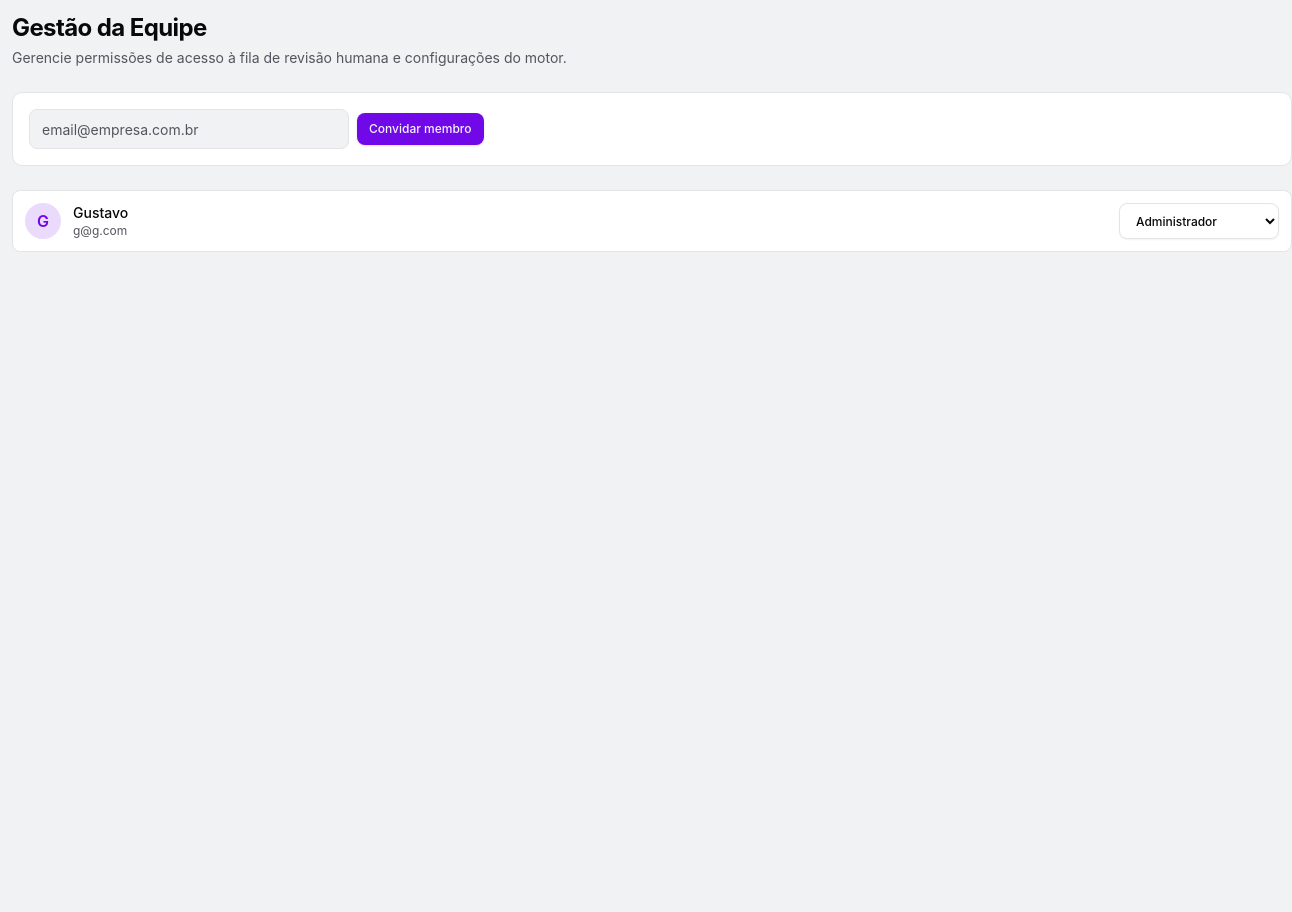
Test: TeamSettingsPage & MemberRow › shows floating save bar when form is dirty
The width and height of the screenshot is (1292, 912).
Select "Revisor" in the dropdown named "role" at (1199, 221), box [1119,203,1279,239]
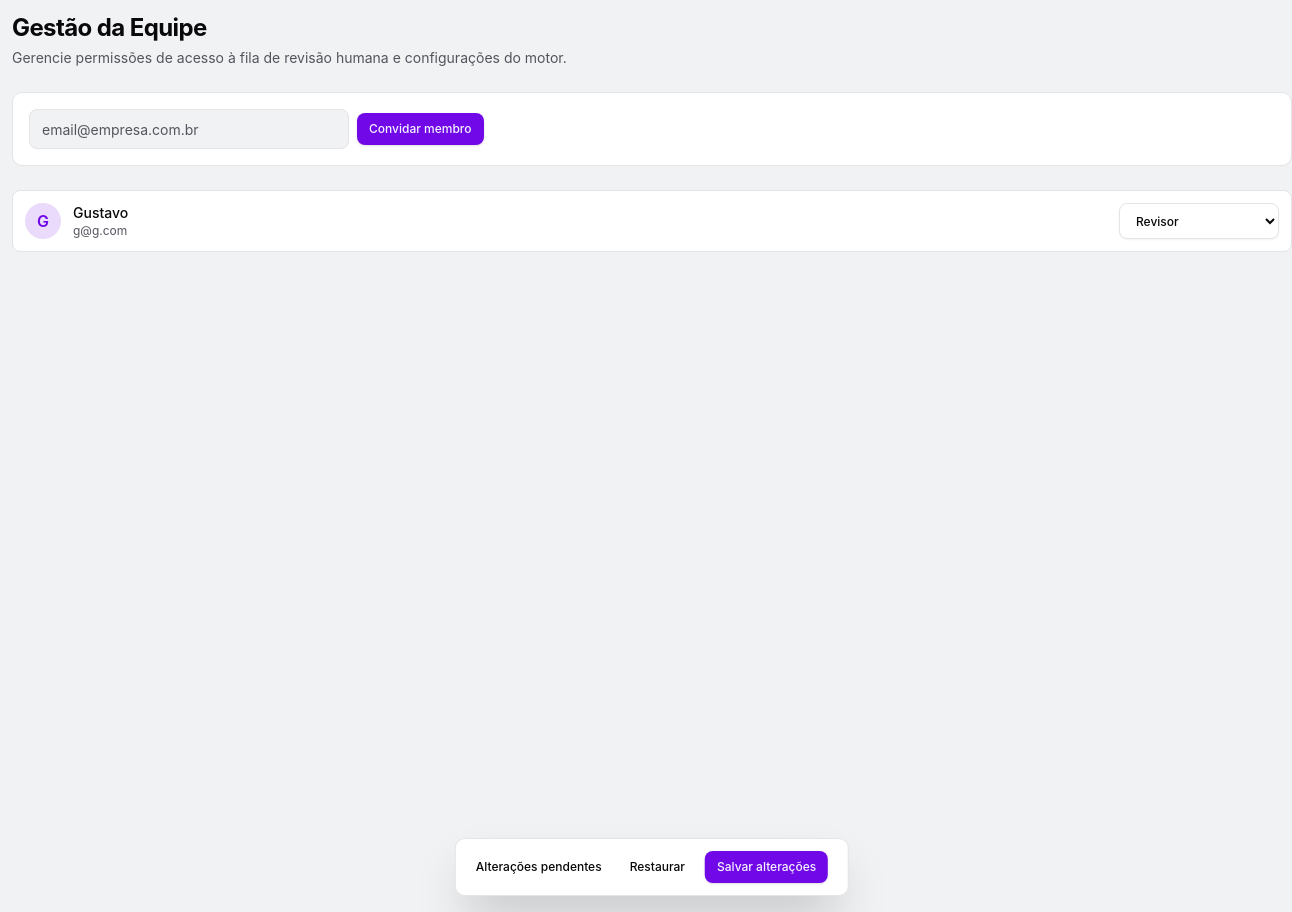
Now the element with test id "floating-save-bar" is shown, box [455,838,849,896]
